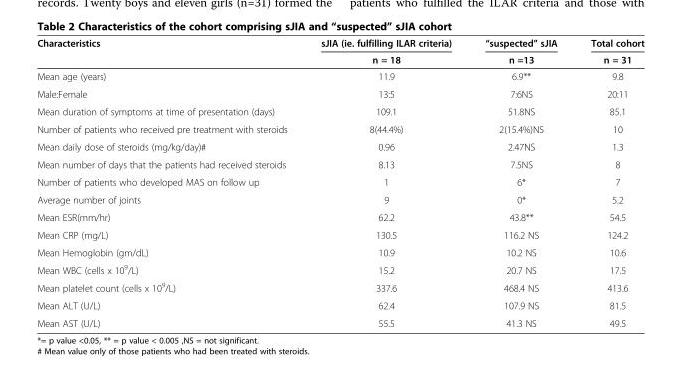table: (36, 36, 643, 328)
table column: (36, 36, 303, 328), (303, 36, 467, 328), (467, 36, 573, 328), (573, 36, 643, 328)
table column header: (36, 36, 643, 67)
table row: (36, 277, 643, 296), (36, 84, 643, 102), (36, 102, 643, 120), (36, 137, 643, 155), (36, 172, 643, 190), (36, 190, 643, 208), (36, 225, 643, 243), (36, 296, 643, 314), (36, 50, 643, 67), (36, 67, 643, 84), (36, 120, 643, 137), (36, 155, 643, 172), (36, 208, 643, 225), (36, 243, 643, 260), (36, 260, 643, 277), (36, 36, 643, 50), (36, 314, 643, 328)
table spanning cell: (36, 36, 303, 67), (303, 36, 467, 67), (467, 36, 573, 67), (573, 36, 643, 67)
